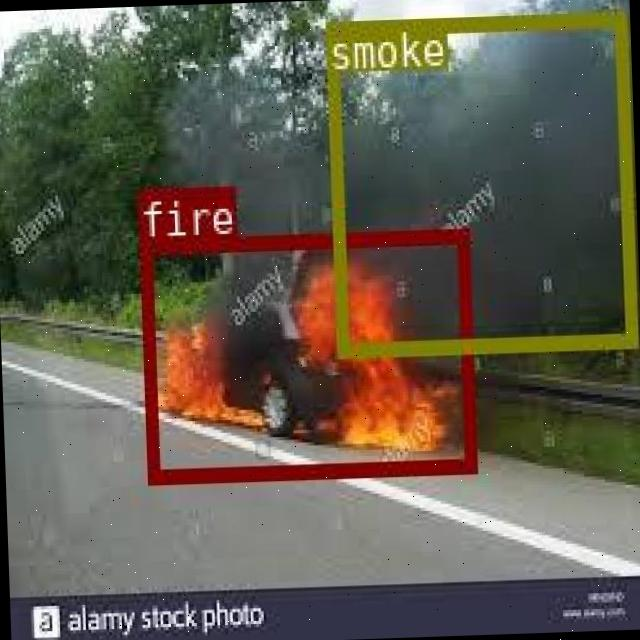fire: (137, 228, 474, 482)
smoke: (324, 11, 636, 356)
